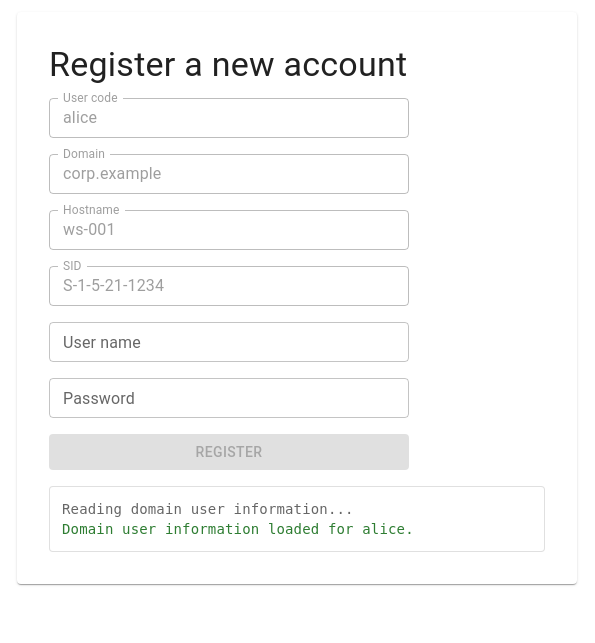
RegisterPage — submission › logs the failure message and keeps the form on failure
In the field labelled "User name": [229, 342] box [49,322,409,362], type "Alice"
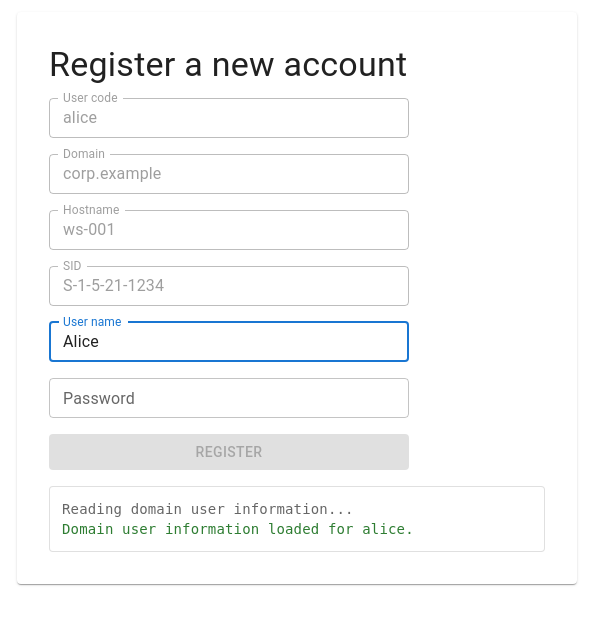
In the password field labelled "Password": [229, 398] box [49,378,409,418], type "secret"
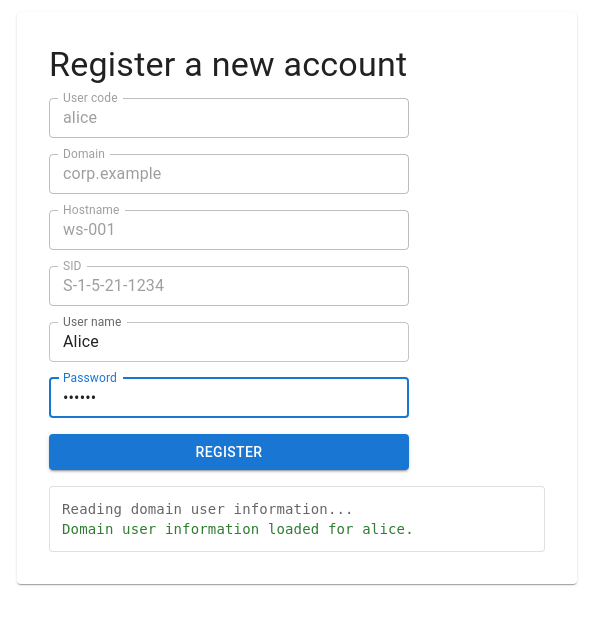
Click the button "Register": [229, 452] box [49,434,409,470]
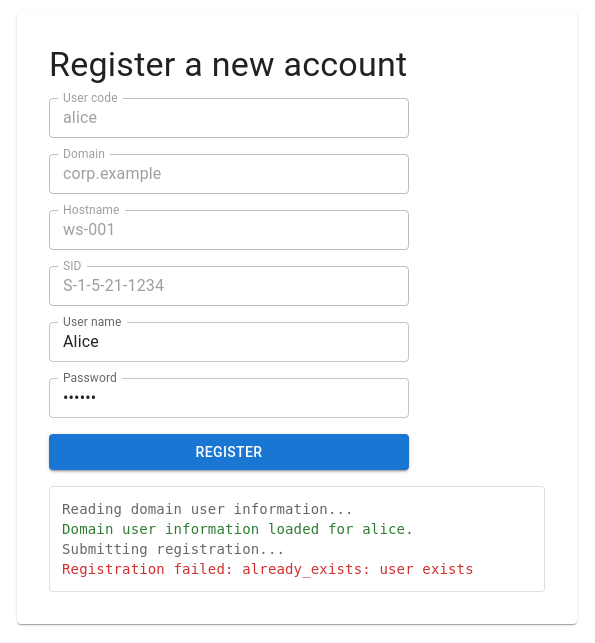
Result: the text "Registration failed: already_exists: user exists" is shown at [62,559,532,579]
